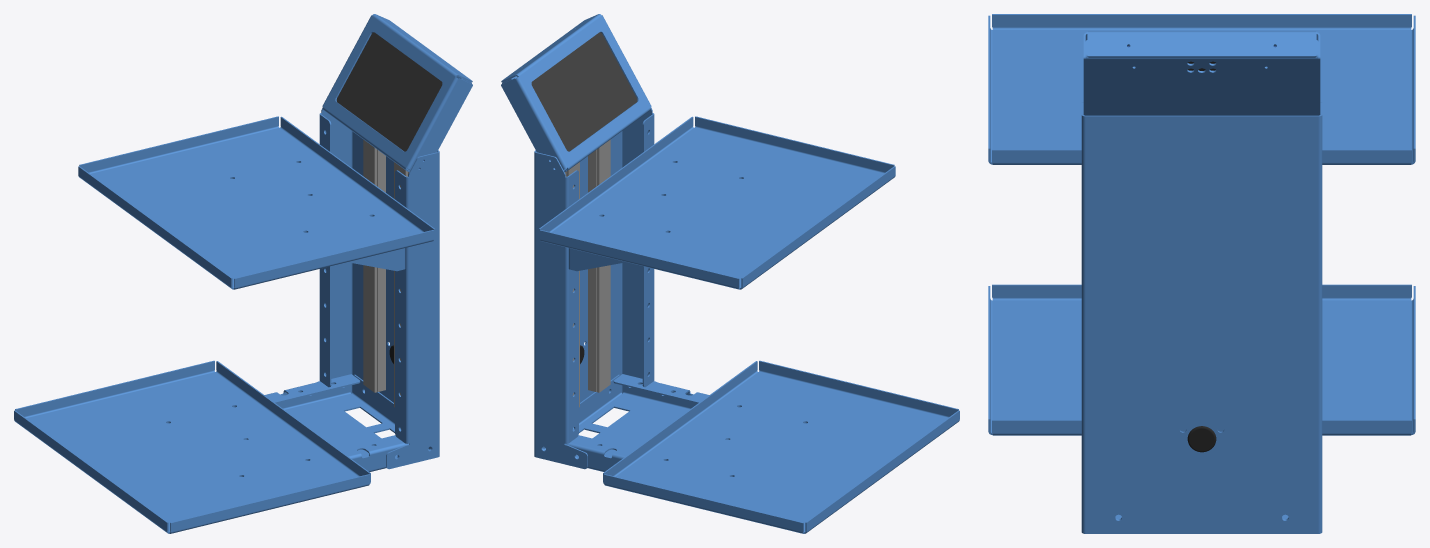
Rendered from magni_tower.dae.
3 renders of one model, left to right at view 1: azimuth 30°, elevation 25°; view 2: azimuth 150°, elevation 25°; view 3: azimuth 270°, elevation 25°, orthographic. The views are drawn at different scales.
Parts seen in each view (by area): view 1: Body_1, Body_3, Body_13, Body_26, Body_12, Body_7, Body_5, Body_19; view 2: Body_1, Body_3, Body_13, Body_26, Body_12, Body_7, Body_6, Body_19; view 3: Body_13, Body_1, Body_3, Body_16, Body_12, Body_22.
Part boxes in pixels (bbox=[...]): Body_1: bbox=[78, 116, 434, 289]; Body_3: bbox=[14, 360, 370, 533]; Body_13: bbox=[317, 108, 439, 469]; Body_26: bbox=[336, 32, 442, 151]; Body_12: bbox=[322, 14, 472, 171]; Body_7: bbox=[167, 374, 431, 476]; Body_5: bbox=[363, 139, 385, 392]; Body_19: bbox=[231, 162, 405, 271]; Body_1: bbox=[539, 116, 895, 289]; Body_3: bbox=[603, 360, 959, 533]; Body_13: bbox=[534, 108, 656, 469]; Body_26: bbox=[531, 32, 637, 151]; Body_12: bbox=[501, 14, 651, 171]; Body_7: bbox=[542, 374, 806, 476]; Body_6: bbox=[588, 139, 610, 392]; Body_19: bbox=[568, 162, 742, 271]; Body_13: bbox=[1081, 102, 1322, 533]; Body_1: bbox=[988, 14, 1415, 164]; Body_3: bbox=[988, 284, 1415, 435]; Body_16: bbox=[1085, 40, 1318, 115]; Body_12: bbox=[1083, 31, 1320, 115]; Body_22: bbox=[1187, 426, 1216, 452].
Size of the model in its own units: 0.5153 by 0.408 by 0.5424.
